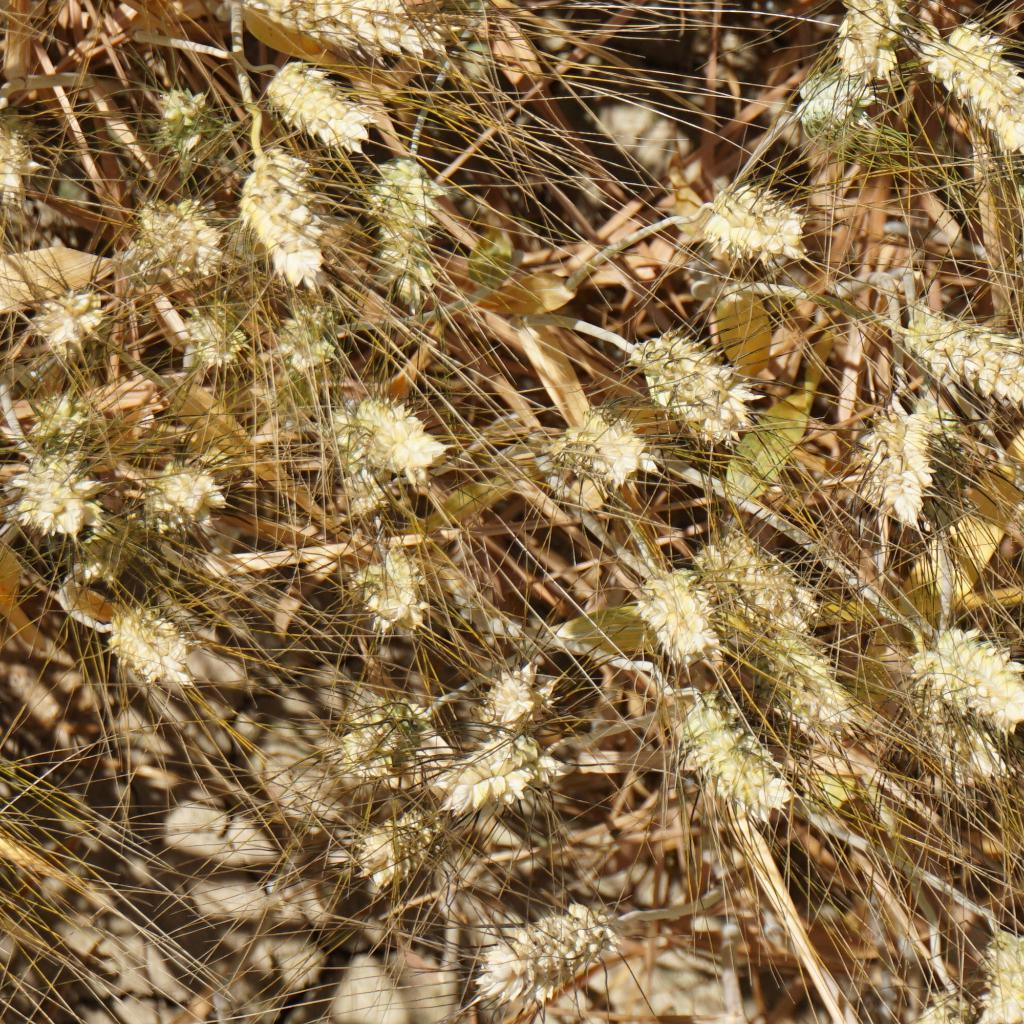0-0: (675, 683, 787, 828), (903, 651, 1012, 793), (915, 13, 1024, 153), (635, 334, 761, 451), (710, 519, 838, 633), (891, 303, 1024, 407), (236, 141, 330, 285), (377, 153, 458, 299), (496, 913, 622, 1004), (685, 175, 801, 269), (249, 0, 423, 62), (533, 405, 647, 498), (260, 51, 376, 141), (332, 374, 441, 468), (628, 553, 714, 663), (864, 409, 947, 519), (795, 51, 884, 151), (23, 262, 108, 362), (774, 620, 850, 730), (114, 600, 204, 689), (449, 712, 531, 809), (937, 618, 1024, 709), (147, 446, 236, 533), (9, 451, 98, 535), (137, 193, 226, 273), (379, 789, 453, 872), (279, 301, 348, 390), (25, 384, 98, 464), (344, 687, 423, 758), (354, 547, 419, 630), (976, 919, 1024, 1024), (157, 74, 218, 155), (482, 655, 553, 720), (171, 309, 242, 370), (833, 0, 884, 60), (996, 476, 1024, 561), (0, 121, 29, 200)
